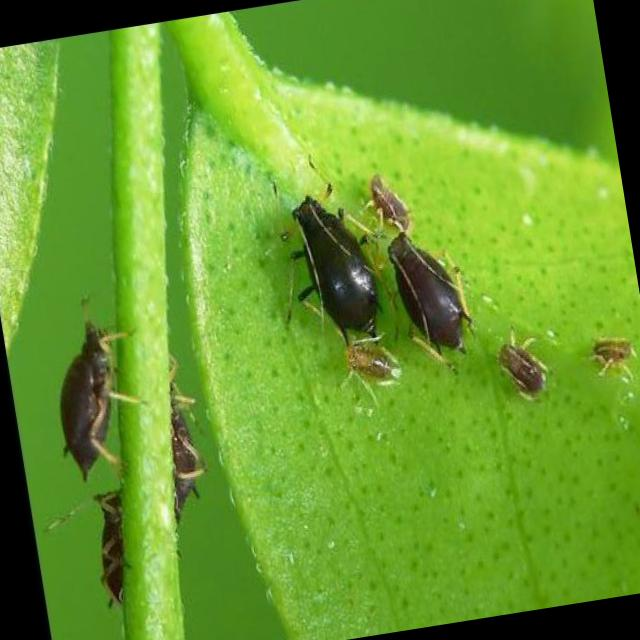aphid: (370, 195, 493, 391), (278, 180, 384, 370), (42, 302, 152, 472)
